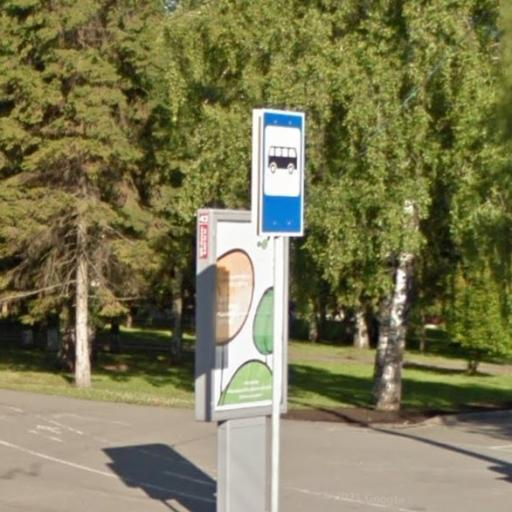traffic_sign: (259, 108, 309, 240)
